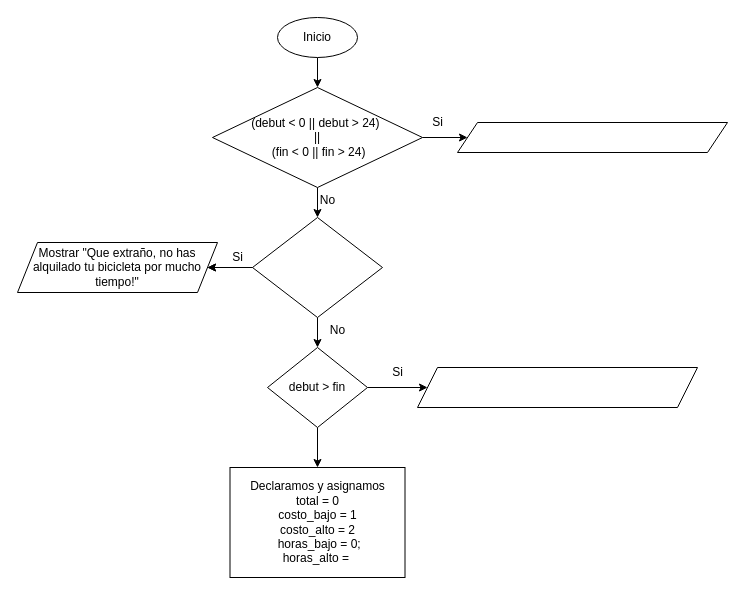
Image size: 745x595. Some labels were removed from this diagram. The box of each missing label's shape, as (x1, y1, x2, y2) in pixels:
debut == fin: (252, 216, 382, 318)
Mostrar "Las horas deben estar entre 0 y 24!": (456, 122, 728, 152)
Mostrar "Que extraño, el inicio del alquiler es después del final...": (416, 366, 698, 408)
